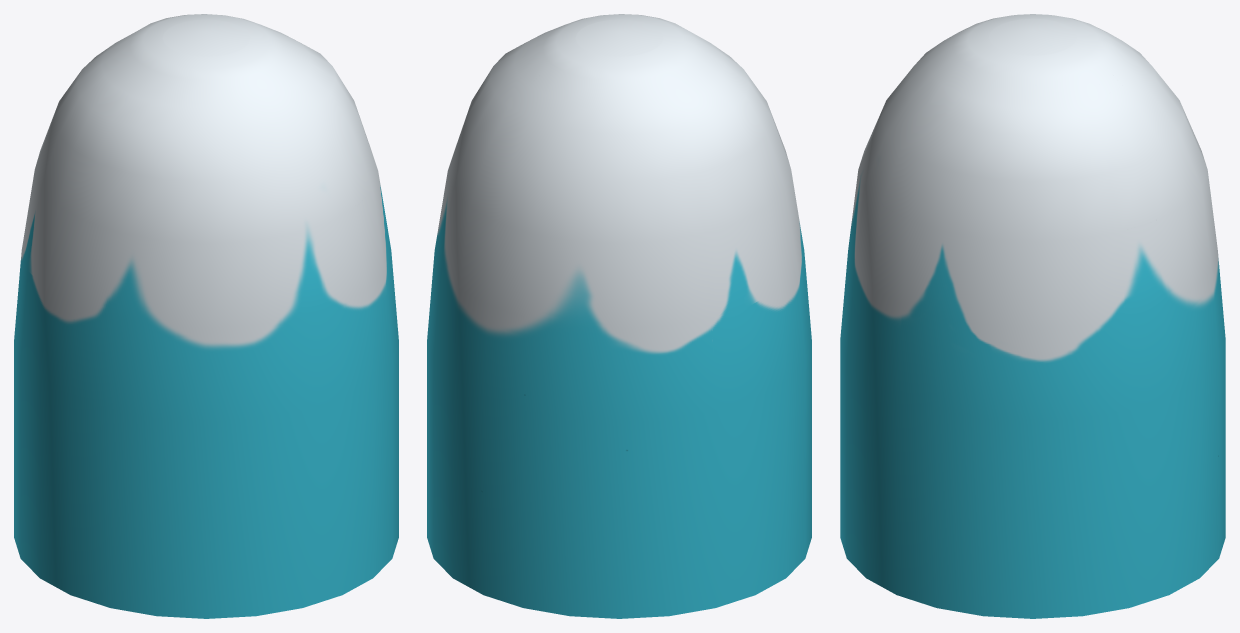
Rendered from BigMountainT.fbx.
3 views of the same model, side by side, from view 1: azimuth 30°, elevation 25°; view 2: azimuth 150°, elevation 25°; view 3: azimuth 270°, elevation 25° (orthographic).
Visible parts, largest first — view 1: Big_mountain; view 2: Big_mountain; view 3: Big_mountain.
Part boxes in pixels (x1,y1,x2,y2): Big_mountain: (14, 14, 398, 618); Big_mountain: (427, 14, 811, 618); Big_mountain: (840, 14, 1225, 618).
Bounding box in the file's own units: 200 × 290 × 200.
